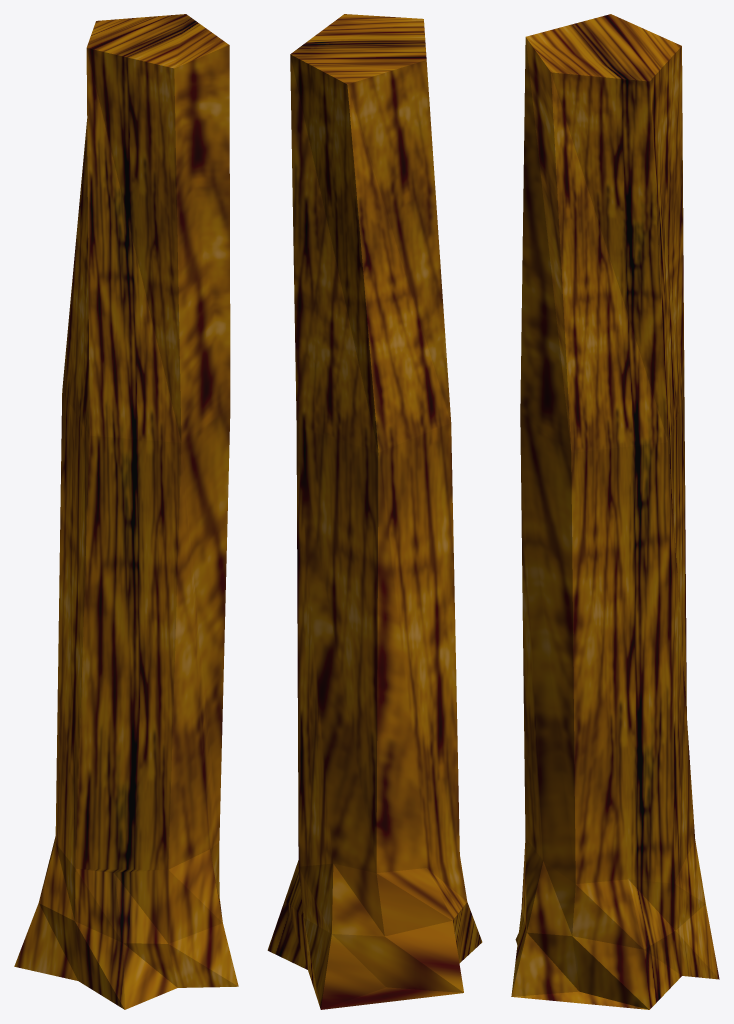
The model's file is MTree_7.gltf.
The picture shows the model from 3 angles, left to right: view 1: azimuth 30°, elevation 25°; view 2: azimuth 150°, elevation 25°; view 3: azimuth 270°, elevation 25°; orthographic projection.
Visible parts, largest first — view 1: MTree_7; view 2: MTree_7; view 3: MTree_7.
Part boxes in pixels (left/top/right/bottom): MTree_7: left=14, top=14, right=238, bottom=1009; MTree_7: left=267, top=14, right=482, bottom=1009; MTree_7: left=511, top=14, right=719, bottom=1009.
Size of the model in its own units: 5.11 by 23.19 by 4.66.
Materials: 1 (1 with a texture image).
